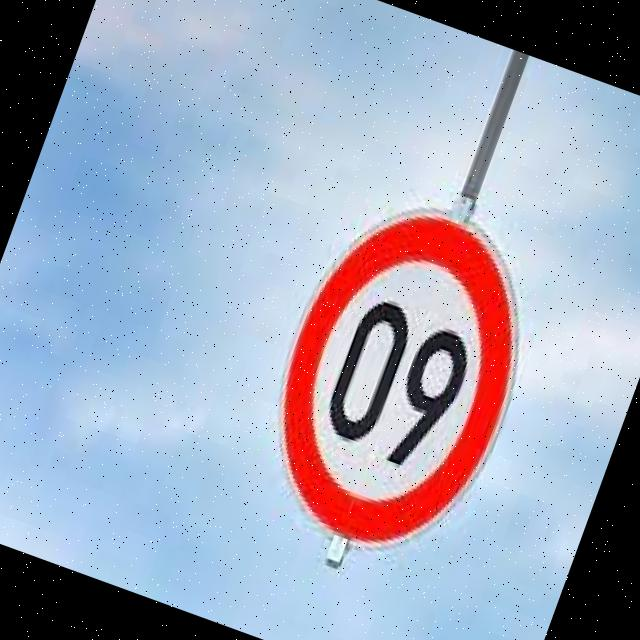speed_limit_60: (216, 157, 578, 590)
